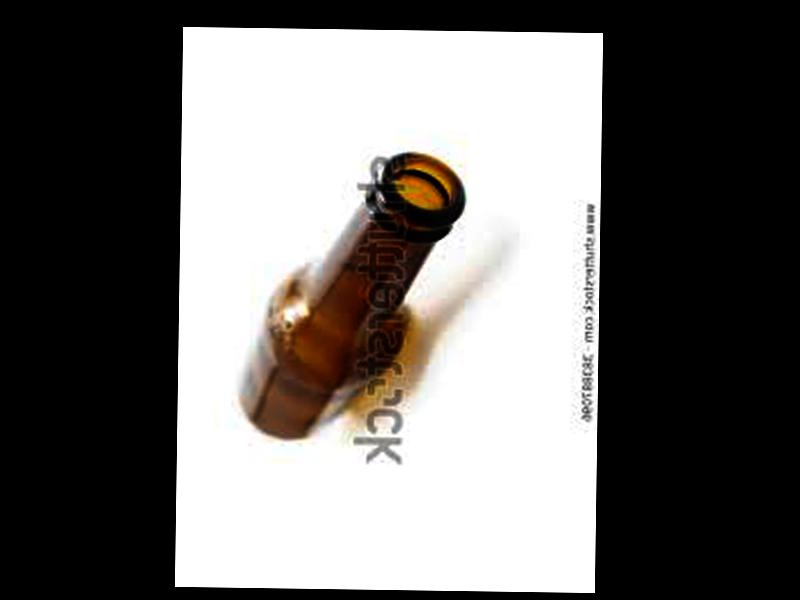Beer: (239, 149, 467, 443)
